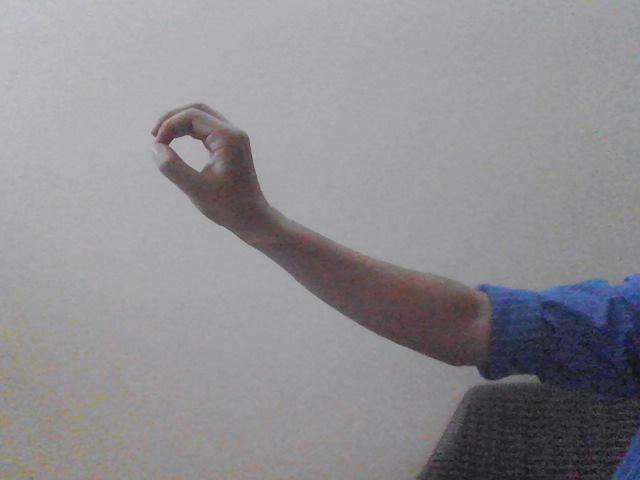O: (143, 99, 270, 230)
